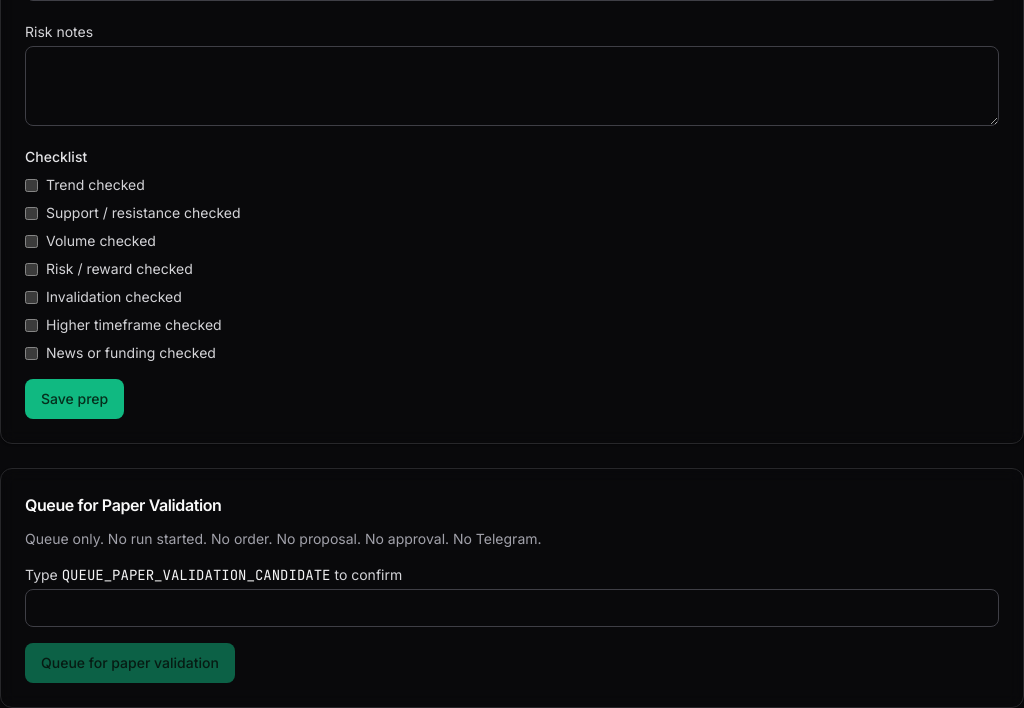
Test: PaperValidationDraftDetailPage Slice 80 › queues candidate with confirmation and shows link
This screenshot has width=1024, height=708.
(page scrolled)
Type "QUEUE_PAPER_VALIDATION_CANDIDATE" into the field with test id "paper-draft-queue-confirm".
click(512, 608); type("QUEUE_PAPER_VALIDATION_CANDIDATE")  # box [25,589,999,627]
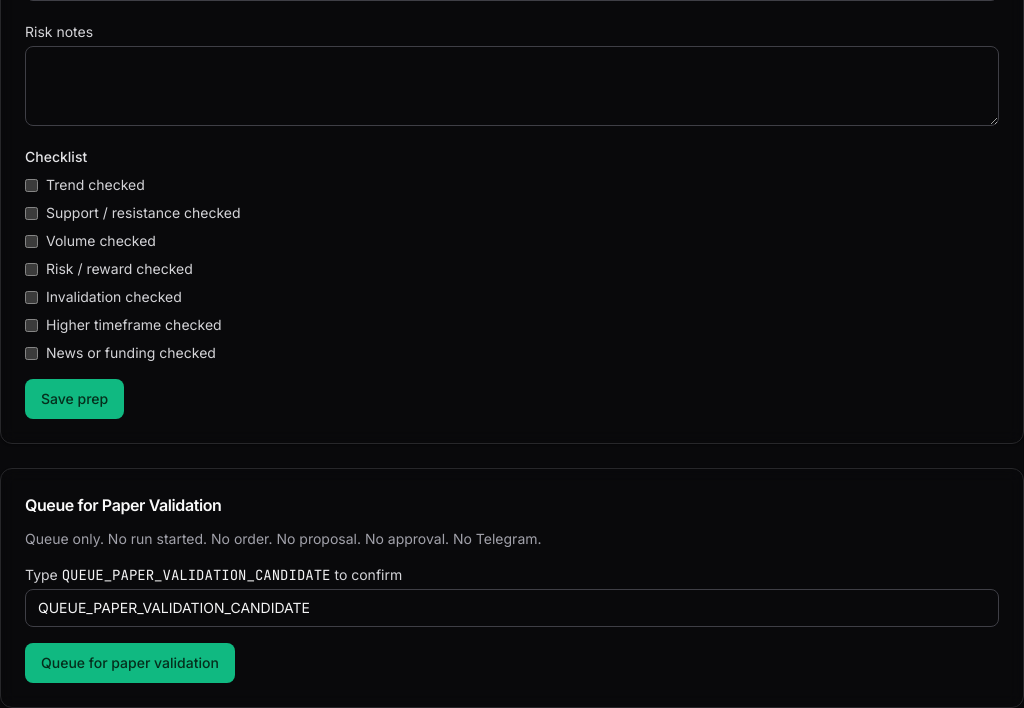
Click the button with test id "paper-draft-queue-submit".
click(130, 663)  # box [25,643,235,683]
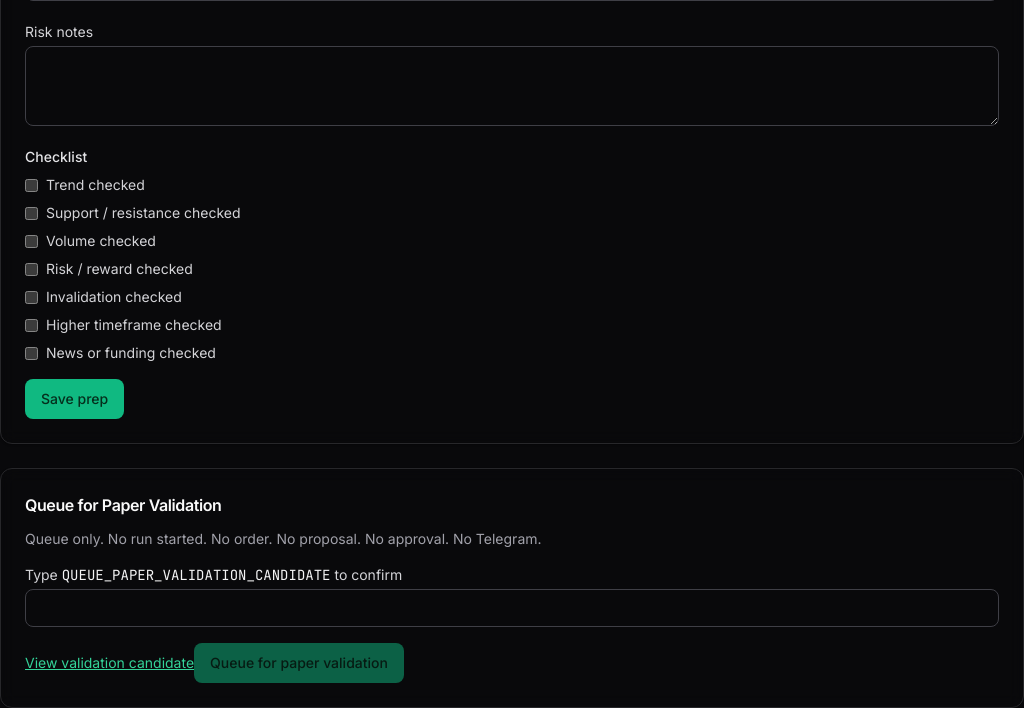
Now the link with test id "paper-draft-candidate-link" is shown, box [25,653,194,673]
